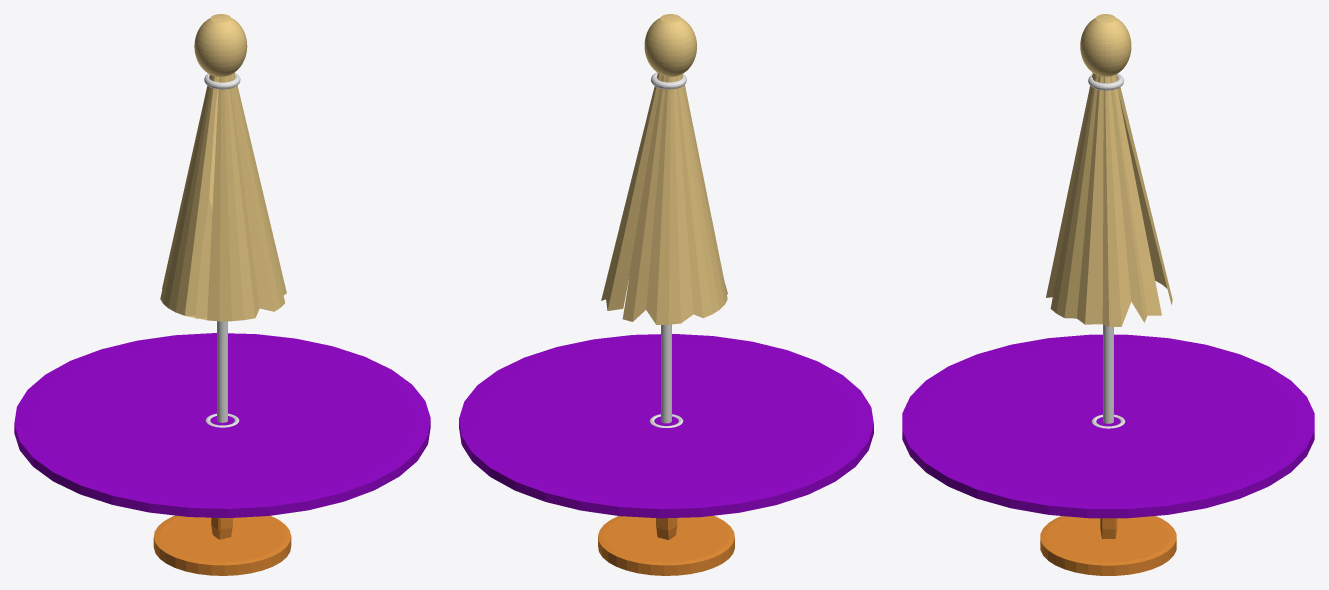
File: table4.fbx
3 views of the same model, side by side, from view 1: azimuth 30°, elevation 25°; view 2: azimuth 150°, elevation 25°; view 3: azimuth 270°, elevation 25° (orthographic).
Visible parts, largest first — view 1: Cone; view 2: Cone; view 3: Cone.
Boxes of the visible parts, x1,y1,x2,y2 form: Cone: (14,14,430,575); Cone: (459,14,873,575); Cone: (902,14,1314,575).
Size of the model in its own units: 2854 by 4036 by 2854.
